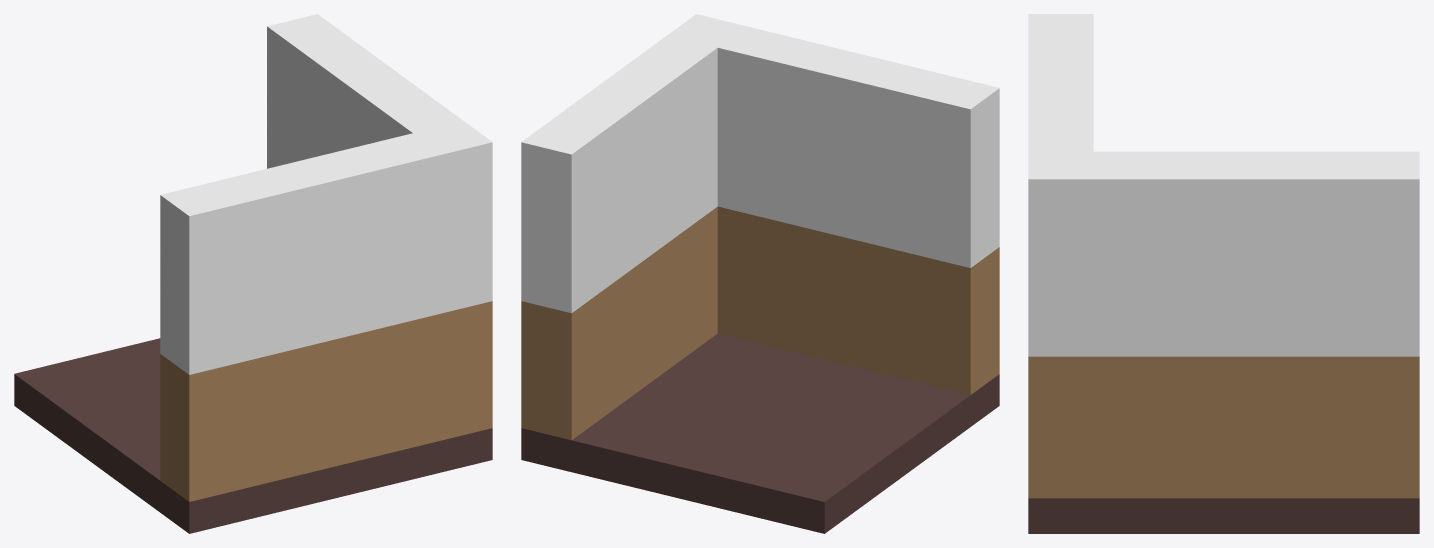
File: corner.FBX
The picture shows the model from 3 angles, left to right: view 1: azimuth 30°, elevation 25°; view 2: azimuth 150°, elevation 25°; view 3: azimuth 270°, elevation 25°; orthographic projection. The views are drawn at different scales.
Parts seen in each view (by area): view 1: Object256; view 2: Object256; view 3: Object256.
Boxes of the visible parts, x1,y1,x2,y2 form: Object256: (14,14,492,533); Object256: (521,14,999,533); Object256: (1028,14,1419,533).
Bounding box in the file's own units: 100 × 100 × 100.
